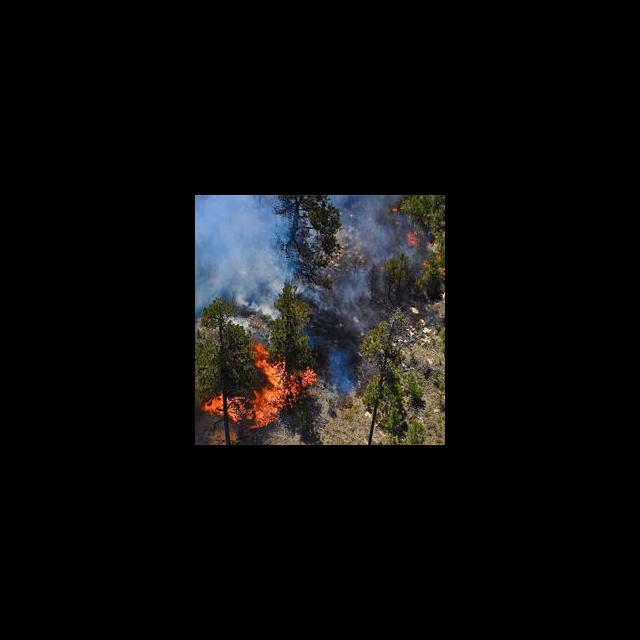Fire: (200, 342, 323, 433), (406, 228, 422, 245), (390, 205, 400, 212)
Smoke: (196, 195, 305, 315), (328, 349, 358, 400)
